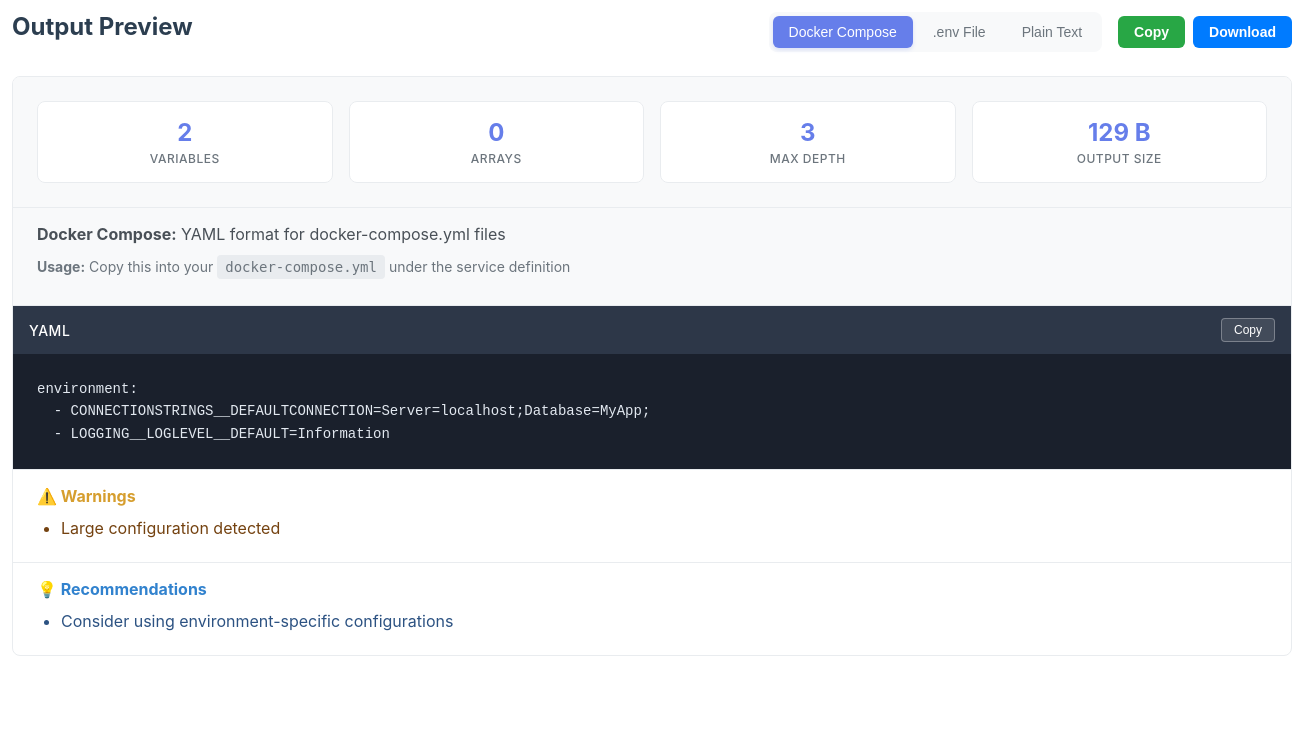
OutputPreview Component › Copy Functionality › shows "Copied!" text temporarily after successful copy
Click the button with class "copy-button" at [1152, 32], box [1118, 16, 1185, 48]
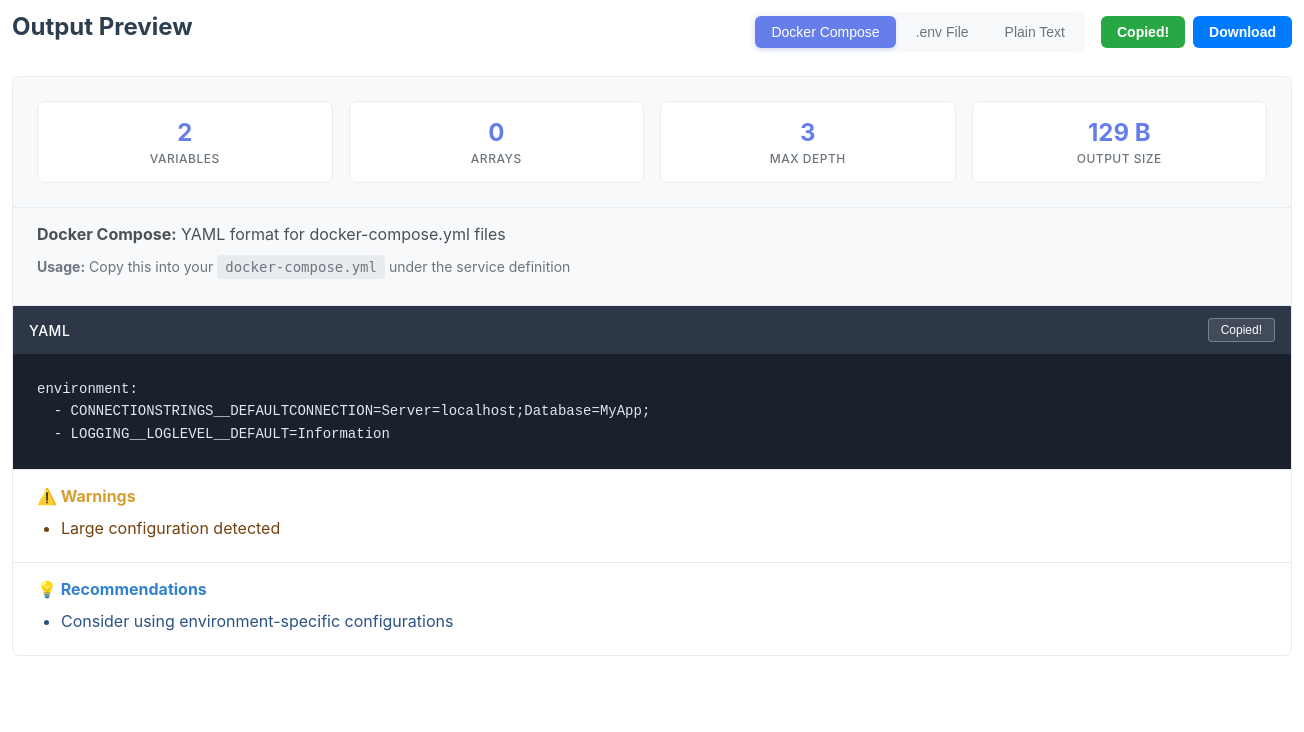
expect the button with class "copy-button" reads "Copied!": met, box [1101, 16, 1185, 48]
